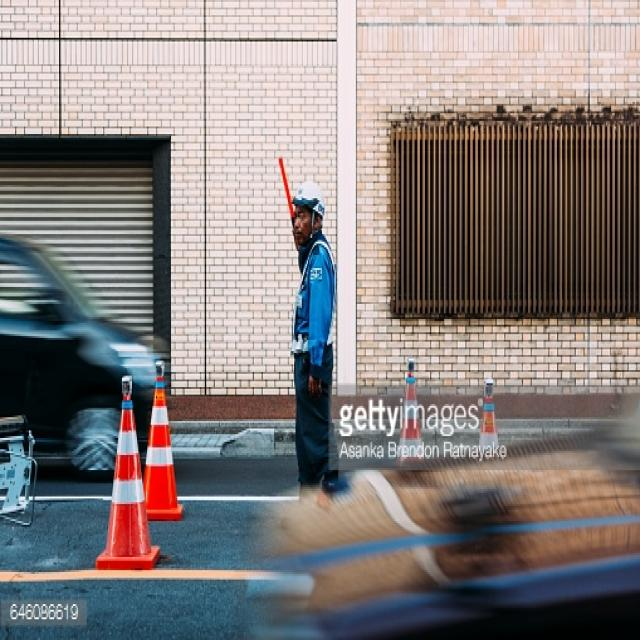cone: (90, 380, 154, 572), (140, 364, 182, 516)
